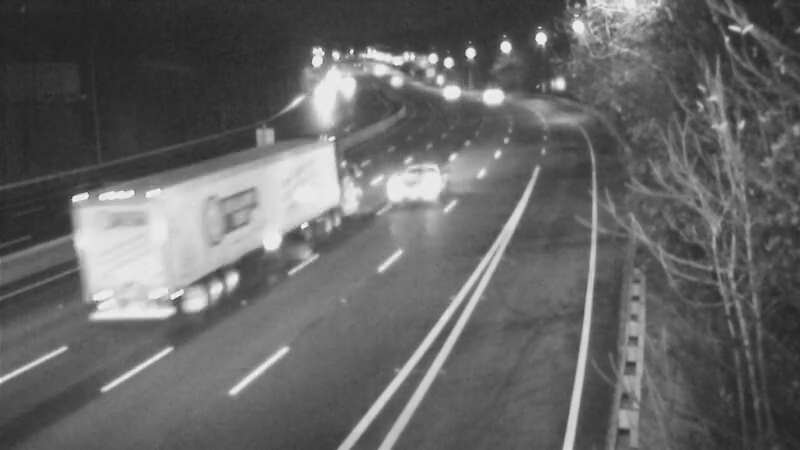vehicle: (386, 141, 466, 221), (149, 180, 229, 260), (427, 64, 477, 114), (463, 73, 513, 123), (297, 74, 347, 124)
